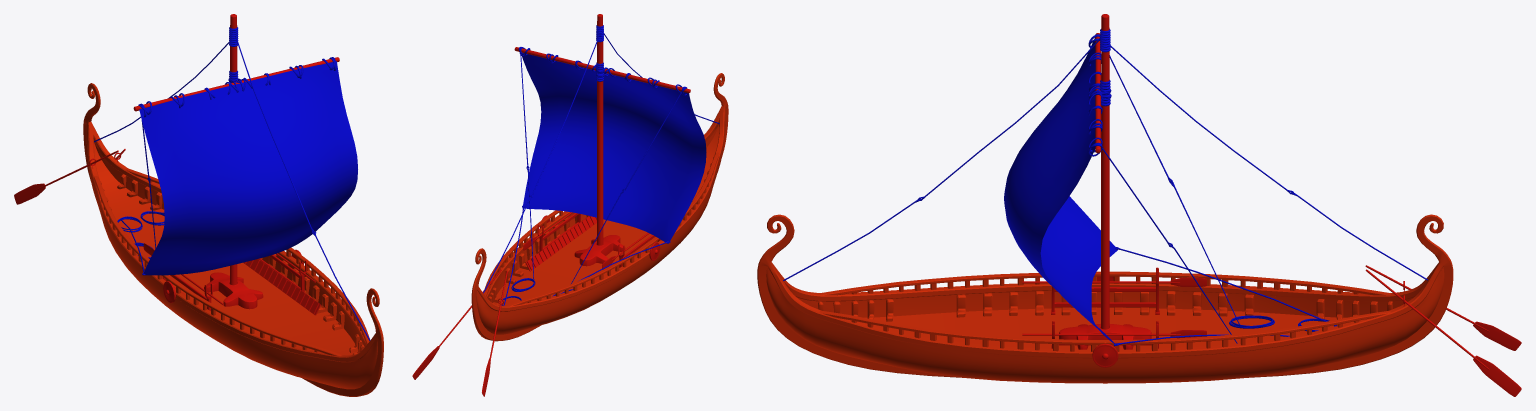
File: ShipV_LOW.obj
3 views of the same model, side by side, from view 1: azimuth 30°, elevation 25°; view 2: azimuth 150°, elevation 25°; view 3: azimuth 270°, elevation 25° (orthographic). The views are drawn at different scales.
Parts seen in each view (by area): view 1: Plane, base1_Cube, base2_Cube.005; view 2: Plane, base1_Cube, base2_Cube.005; view 3: base1_Cube, Plane, base2_Cube.005.
Boxes of the visible parts, x1,y1,x2,y2 form: Plane: (94, 27, 370, 340); base1_Cube: (83, 83, 383, 396); base2_Cube.005: (14, 14, 339, 315); Plane: (483, 25, 719, 305); base1_Cube: (471, 73, 728, 341); base2_Cube.005: (412, 14, 690, 396); base1_Cube: (757, 214, 1453, 383); Plane: (783, 29, 1427, 345); base2_Cube.005: (1022, 14, 1521, 396).
Size of the model in its own units: 1.65 by 2.39 by 4.58.
